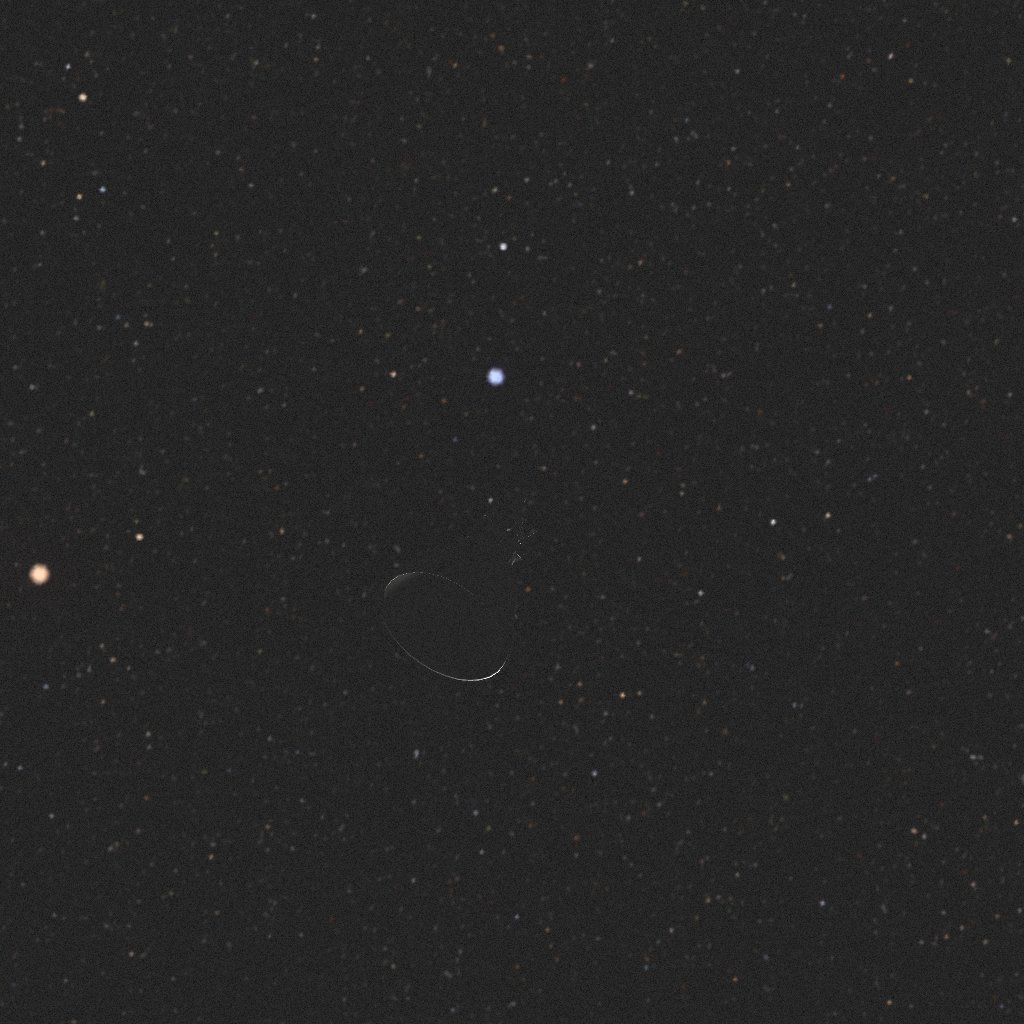debris: (375, 534, 508, 691)
